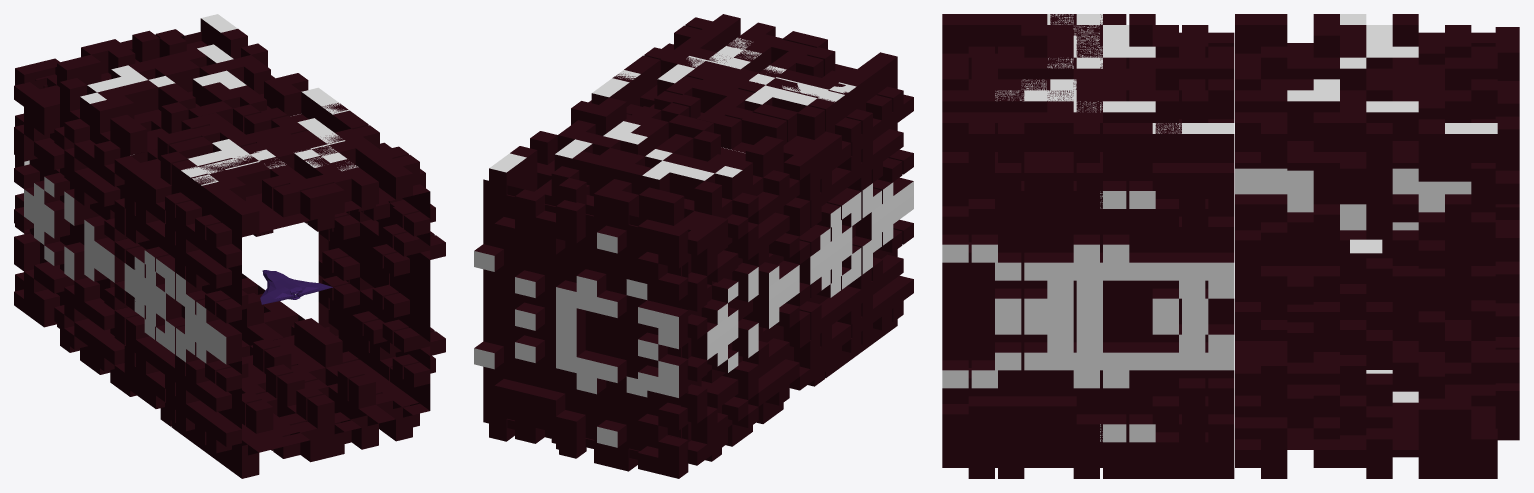
The model's file is tunnel.dae.
The picture shows the model from 3 angles, left to right: view 1: azimuth 30°, elevation 25°; view 2: azimuth 150°, elevation 25°; view 3: azimuth 270°, elevation 25°; orthographic projection. The views are drawn at different scales.
Parts seen in each view (by area): view 1: Plane, Plane.005, Plane.006, Plane.004, Cube; view 2: Plane.005, Plane.004, Plane.006, Plane; view 3: Plane.005, Plane.006, Plane, Plane.004.
Part boxes in pixels (x1,y1,x2,y2): Plane: (126, 96, 445, 478); Plane.005: (14, 14, 308, 396); Plane.006: (114, 87, 434, 470); Plane.004: (15, 29, 201, 291); Cube: (260, 270, 332, 304); Plane.005: (489, 97, 799, 471); Plane.004: (474, 179, 688, 478); Plane.006: (588, 22, 902, 390); Plane: (615, 14, 913, 379); Plane.005: (1235, 14, 1497, 478); Plane.006: (971, 14, 1234, 478); Plane: (942, 14, 1205, 478); Plane.004: (1495, 27, 1519, 440).
Bounding box in the file's own units: 20.43 × 35.55 × 23.43.
